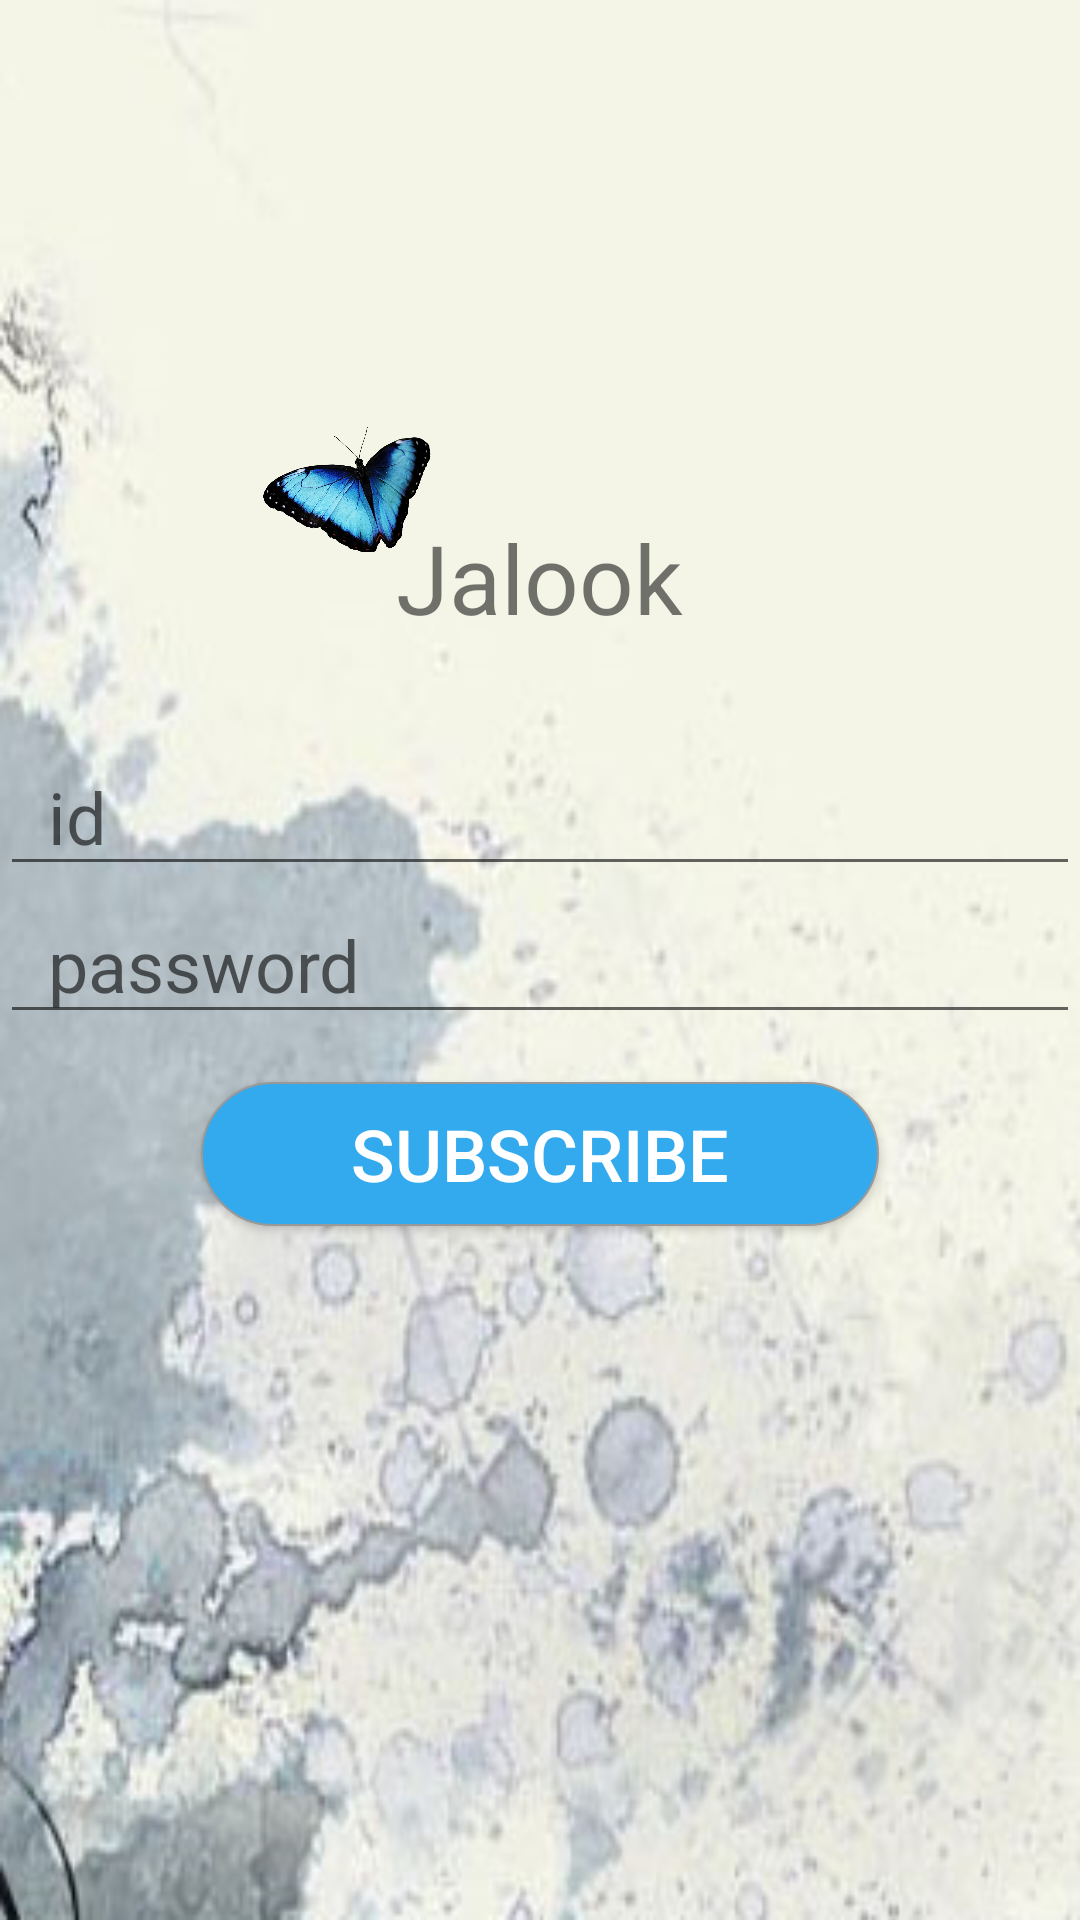

Icon click points for this 1080x1920 phone screenshot, format (x=x, y=y):
butterfly: (x=347, y=489)
